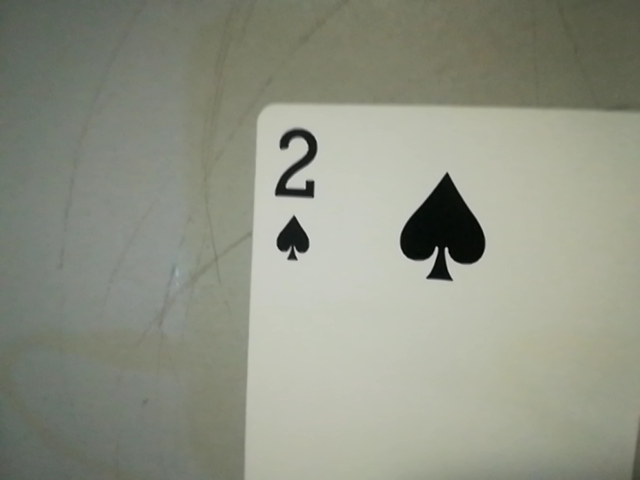ht 2: (257, 116, 334, 270)
